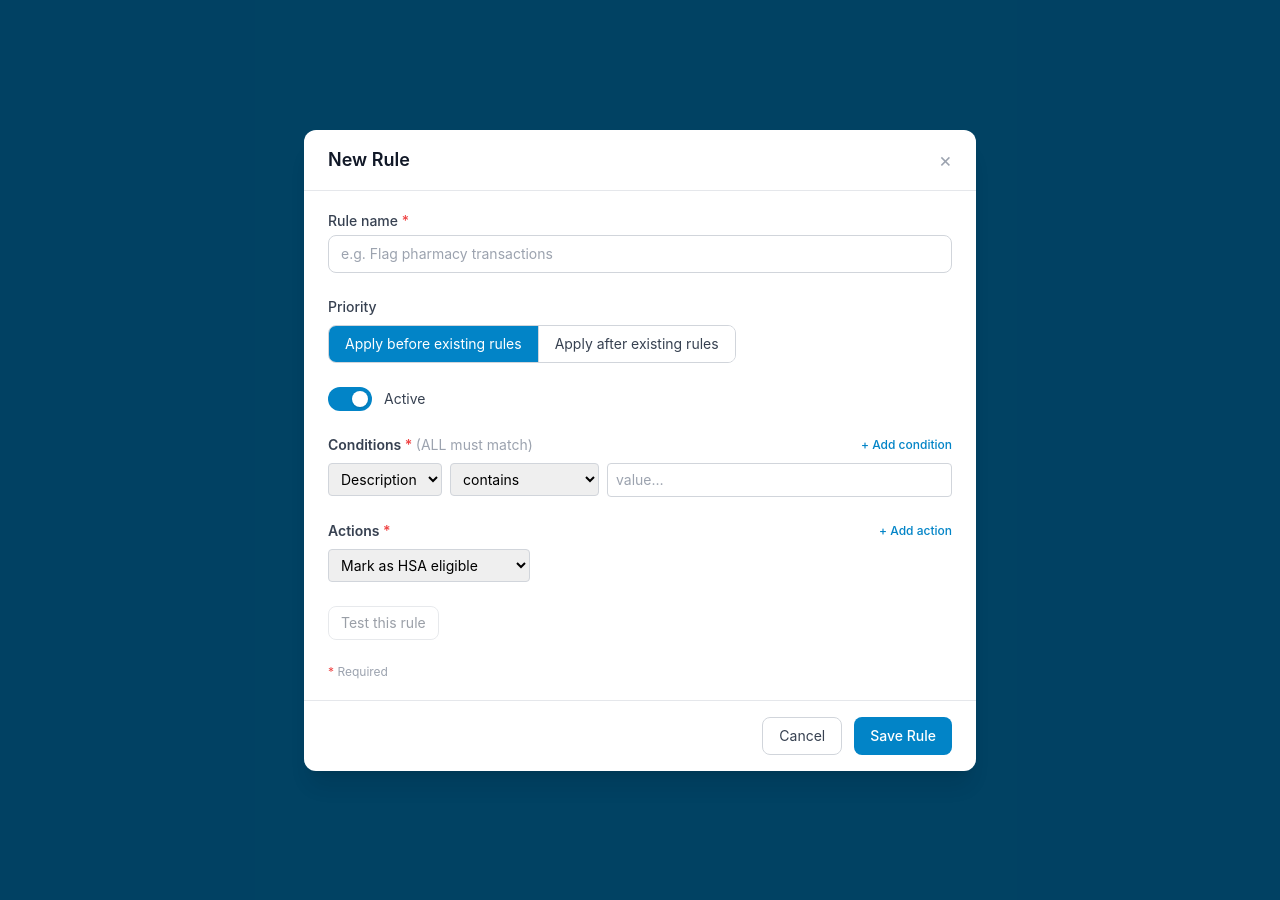
Test case: RuleEditor › can remove a condition row when there are multiple
What coordinates should you click on to do the following:
click the button "+ Add condition"
I would click on:
 (906, 444)
Its box is [861,436,952,452].
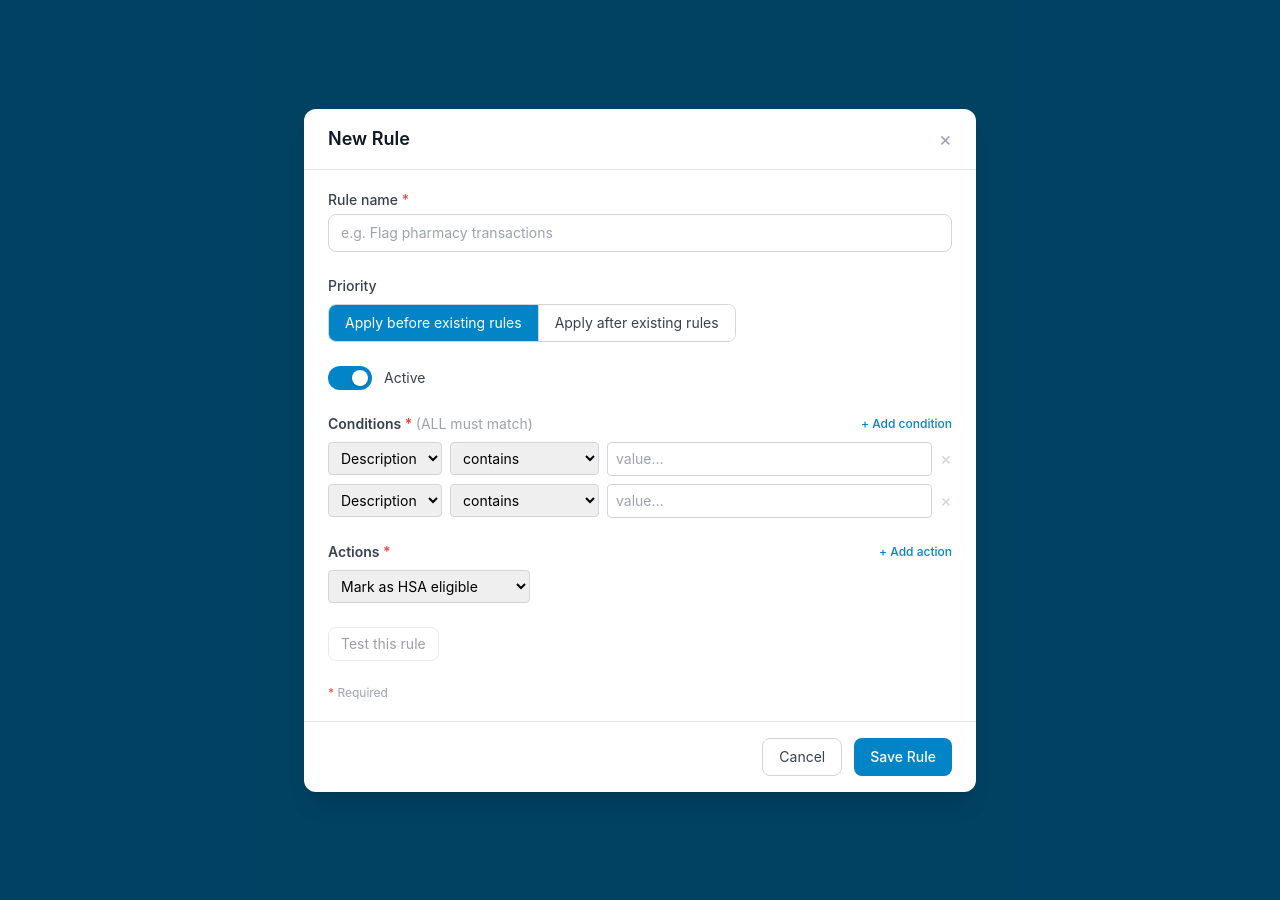
What coordinates should you click on to do the following:
click the button named "Remove condition"
I would click on:
 (946, 458)
Its box is [940,450,952,468].
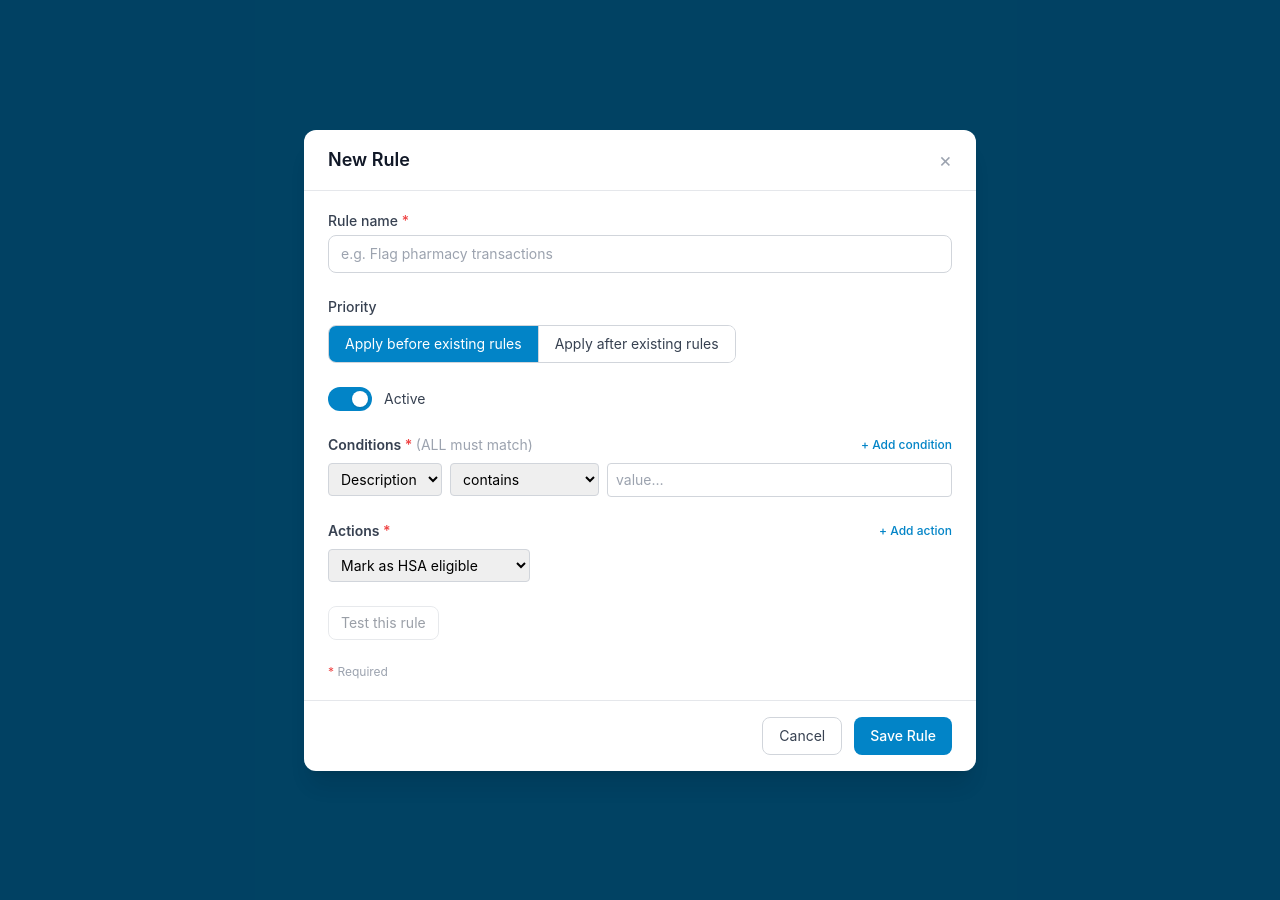
expect the number of fields with placeholder "value…" is 1: met, box [607,462,952,496]
